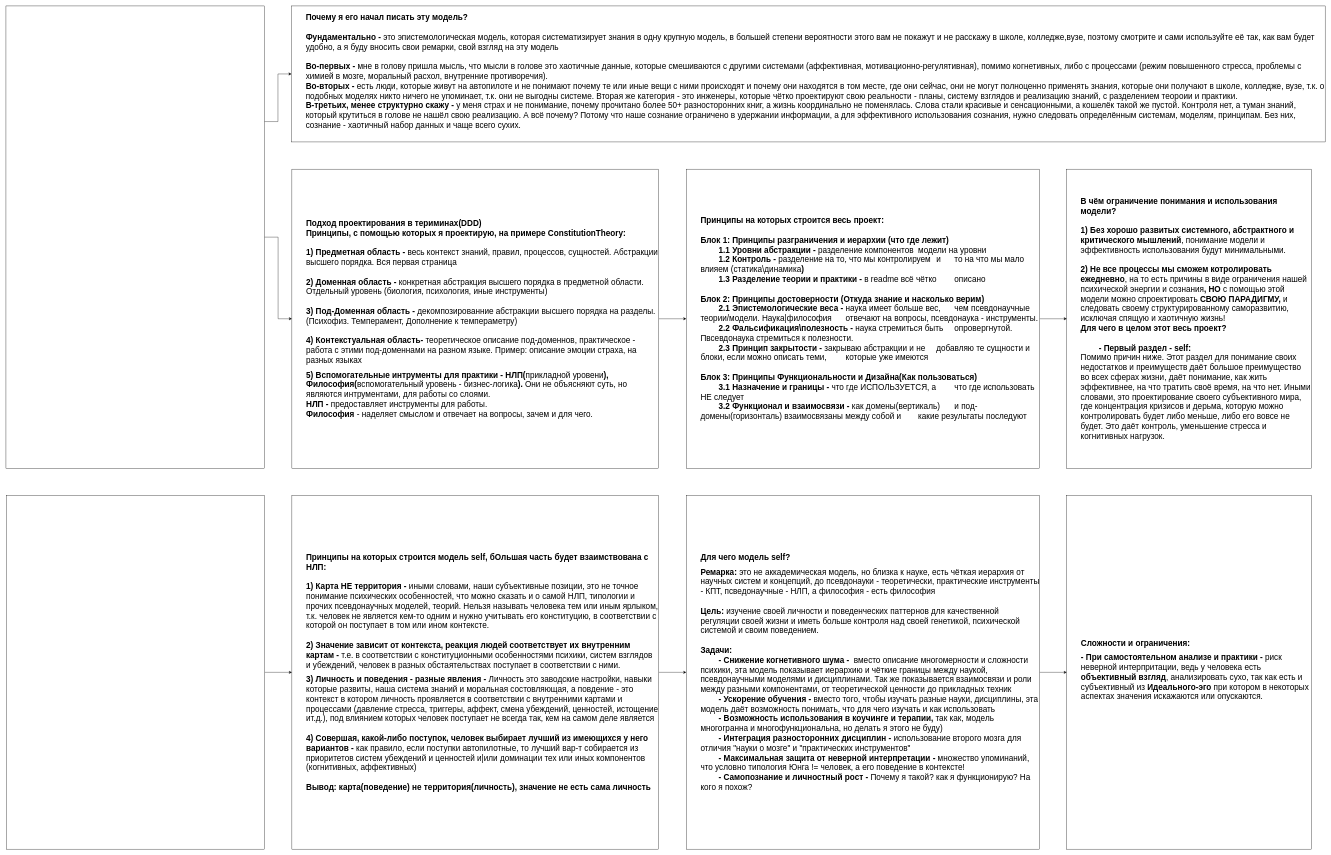
Image size: 1331x855. Some labels were removed from this diagram. Each missing label, with the box of its shape:
Модель self: (6, 495, 265, 849)
Моё субъективное: (6, 6, 264, 468)
